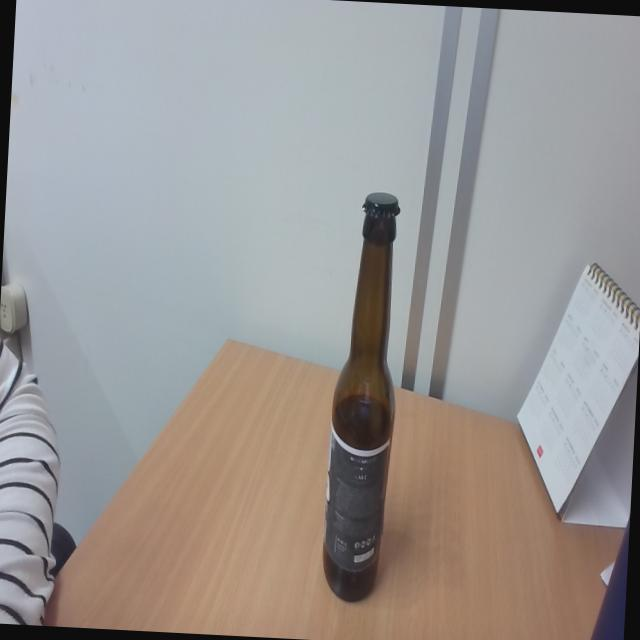Bottle: (320, 186, 407, 604)
Cap: (357, 190, 403, 223)
Label: (322, 434, 390, 571)
